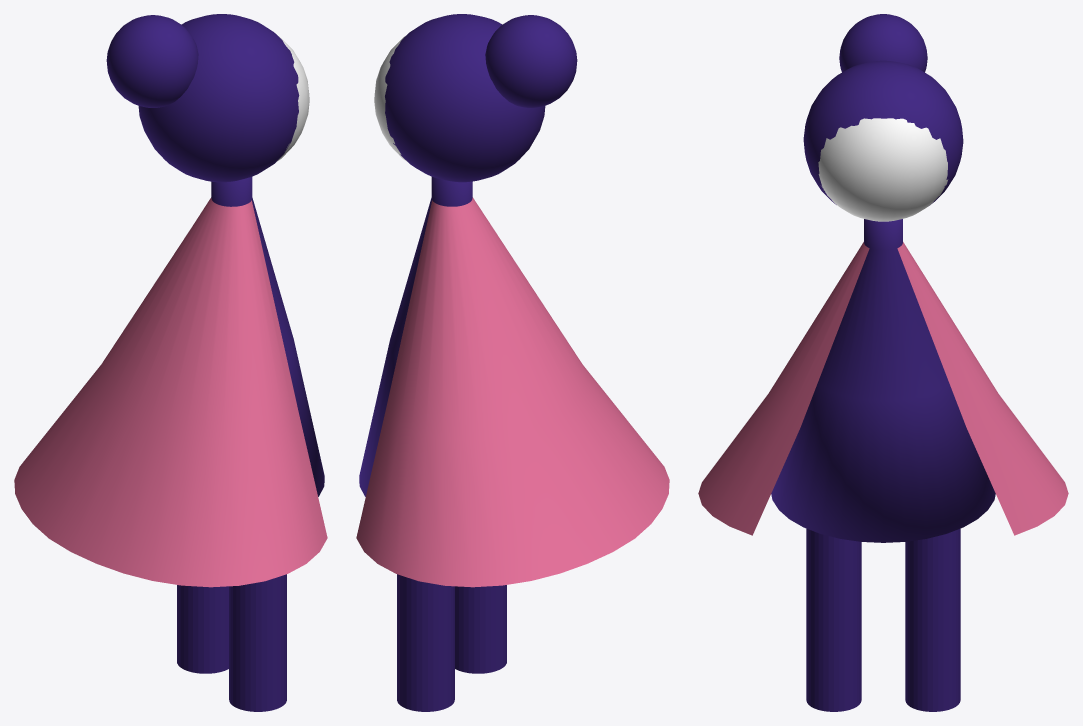
Rendered from character.glb.
3 renders of one model, left to right at view 1: azimuth 30°, elevation 25°; view 2: azimuth 150°, elevation 25°; view 3: azimuth 270°, elevation 25°, orthographic. The views are drawn at different scales.
Parts seen in each view (by area): view 1: Cylinder.002, Hair, Cylinder, Bun, UpperBody, whiteHead; view 2: Cylinder.002, Hair, Cylinder, Bun, UpperBody, whiteHead; view 3: UpperBody, Cylinder.002, Cylinder, whiteHead, Hair, Bun.
Boxes of the visible parts, left/top/right/bottom form: Cylinder.002: left=14, top=197, right=327, bottom=587; Hair: left=138, top=14, right=299, bottom=182; Cylinder: left=177, top=574, right=286, bottom=711; Bun: left=106, top=15, right=198, bottom=107; UpperBody: left=211, top=177, right=324, bottom=496; whiteHead: left=277, top=36, right=309, bottom=161; Cylinder.002: left=356, top=197, right=669, bottom=587; Hair: left=385, top=14, right=545, bottom=182; Cylinder: left=397, top=574, right=506, bottom=711; Bun: left=485, top=15, right=577, bottom=107; UpperBody: left=359, top=177, right=472, bottom=496; whiteHead: left=374, top=36, right=407, bottom=161; UpperBody: left=771, top=219, right=995, bottom=542; Cylinder.002: left=698, top=242, right=1068, bottom=535; Cylinder: left=806, top=528, right=960, bottom=711; whiteHead: left=818, top=118, right=948, bottom=221; Hair: left=803, top=60, right=963, bottom=205; Bun: left=839, top=14, right=927, bottom=72.
Bounding box in the file's own units: 0.4843 × 1.2 × 0.626.
